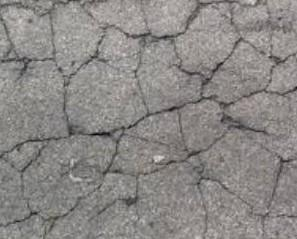alligator-crack: (1, 1, 296, 238)
